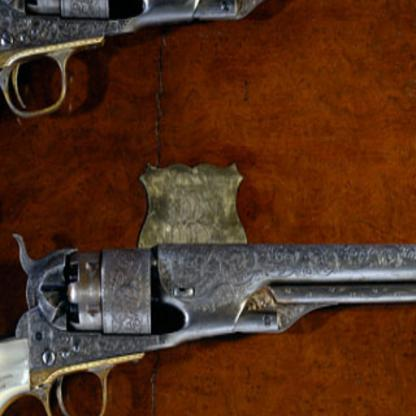gun: (0, 0, 415, 226), (0, 230, 415, 415)
